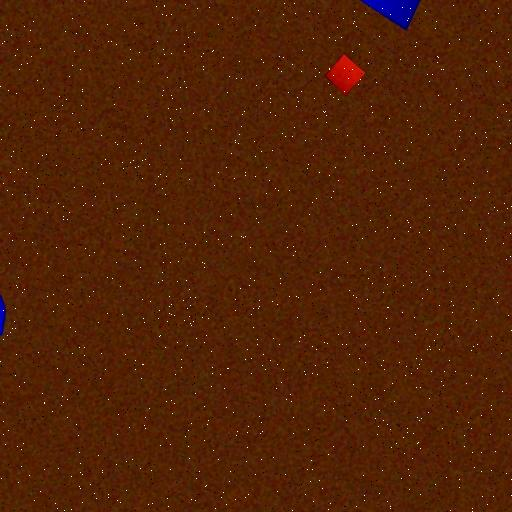BLUE_SQUARE: (351, 0, 432, 30)
RED_SQUARE: (324, 53, 366, 97)
